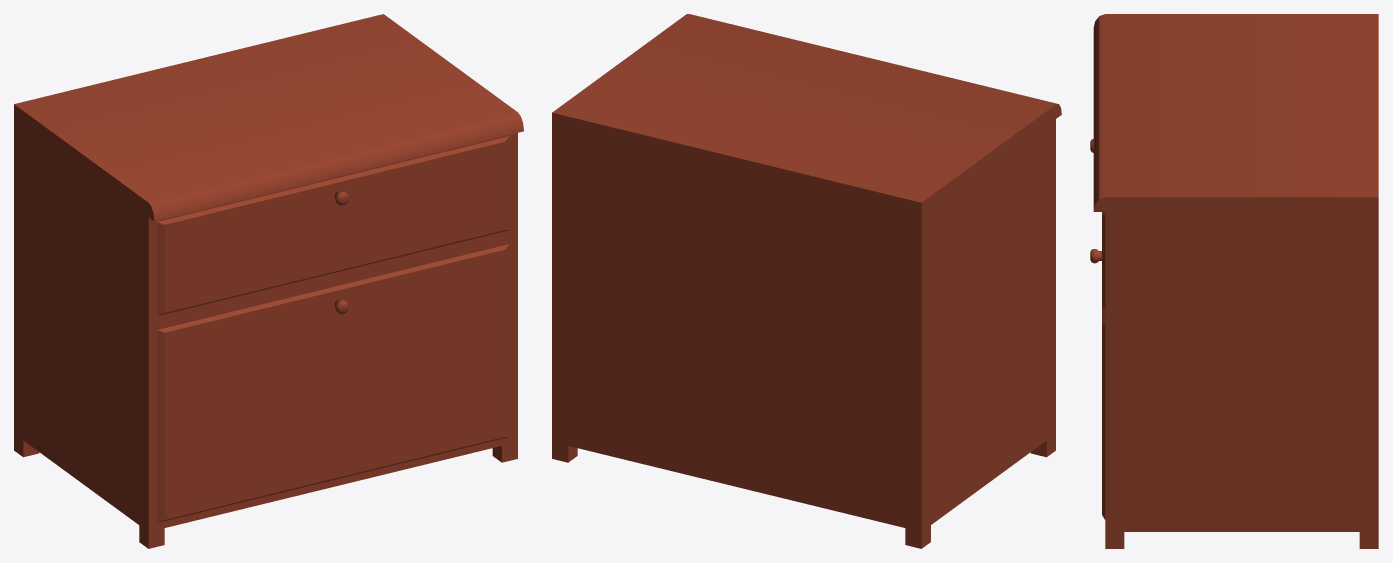
File: Küchenmöbel.fbx_K_chenschrank_Schubf_cher_1.fbx
The picture shows the model from 3 angles, left to right: view 1: azimuth 30°, elevation 25°; view 2: azimuth 150°, elevation 25°; view 3: azimuth 270°, elevation 25°; orthographic projection.
Visible parts, largest first — view 1: Küchenschrank Schubfächer 1m; view 2: Küchenschrank Schubfächer 1m; view 3: Küchenschrank Schubfächer 1m.
Boxes of the visible parts, x1,y1,x2,y2 form: Küchenschrank Schubfächer 1m: (14,14,523,548); Küchenschrank Schubfächer 1m: (552,14,1061,548); Küchenschrank Schubfächer 1m: (1093,14,1378,548).
Size of the model in its own units: 100 by 89.54 by 66.55.
